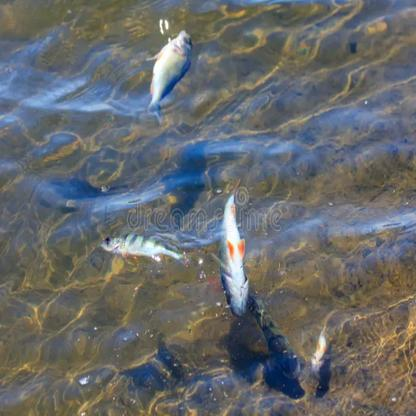deceased fish: (212, 194, 254, 317), (140, 26, 192, 105), (100, 229, 186, 266)
